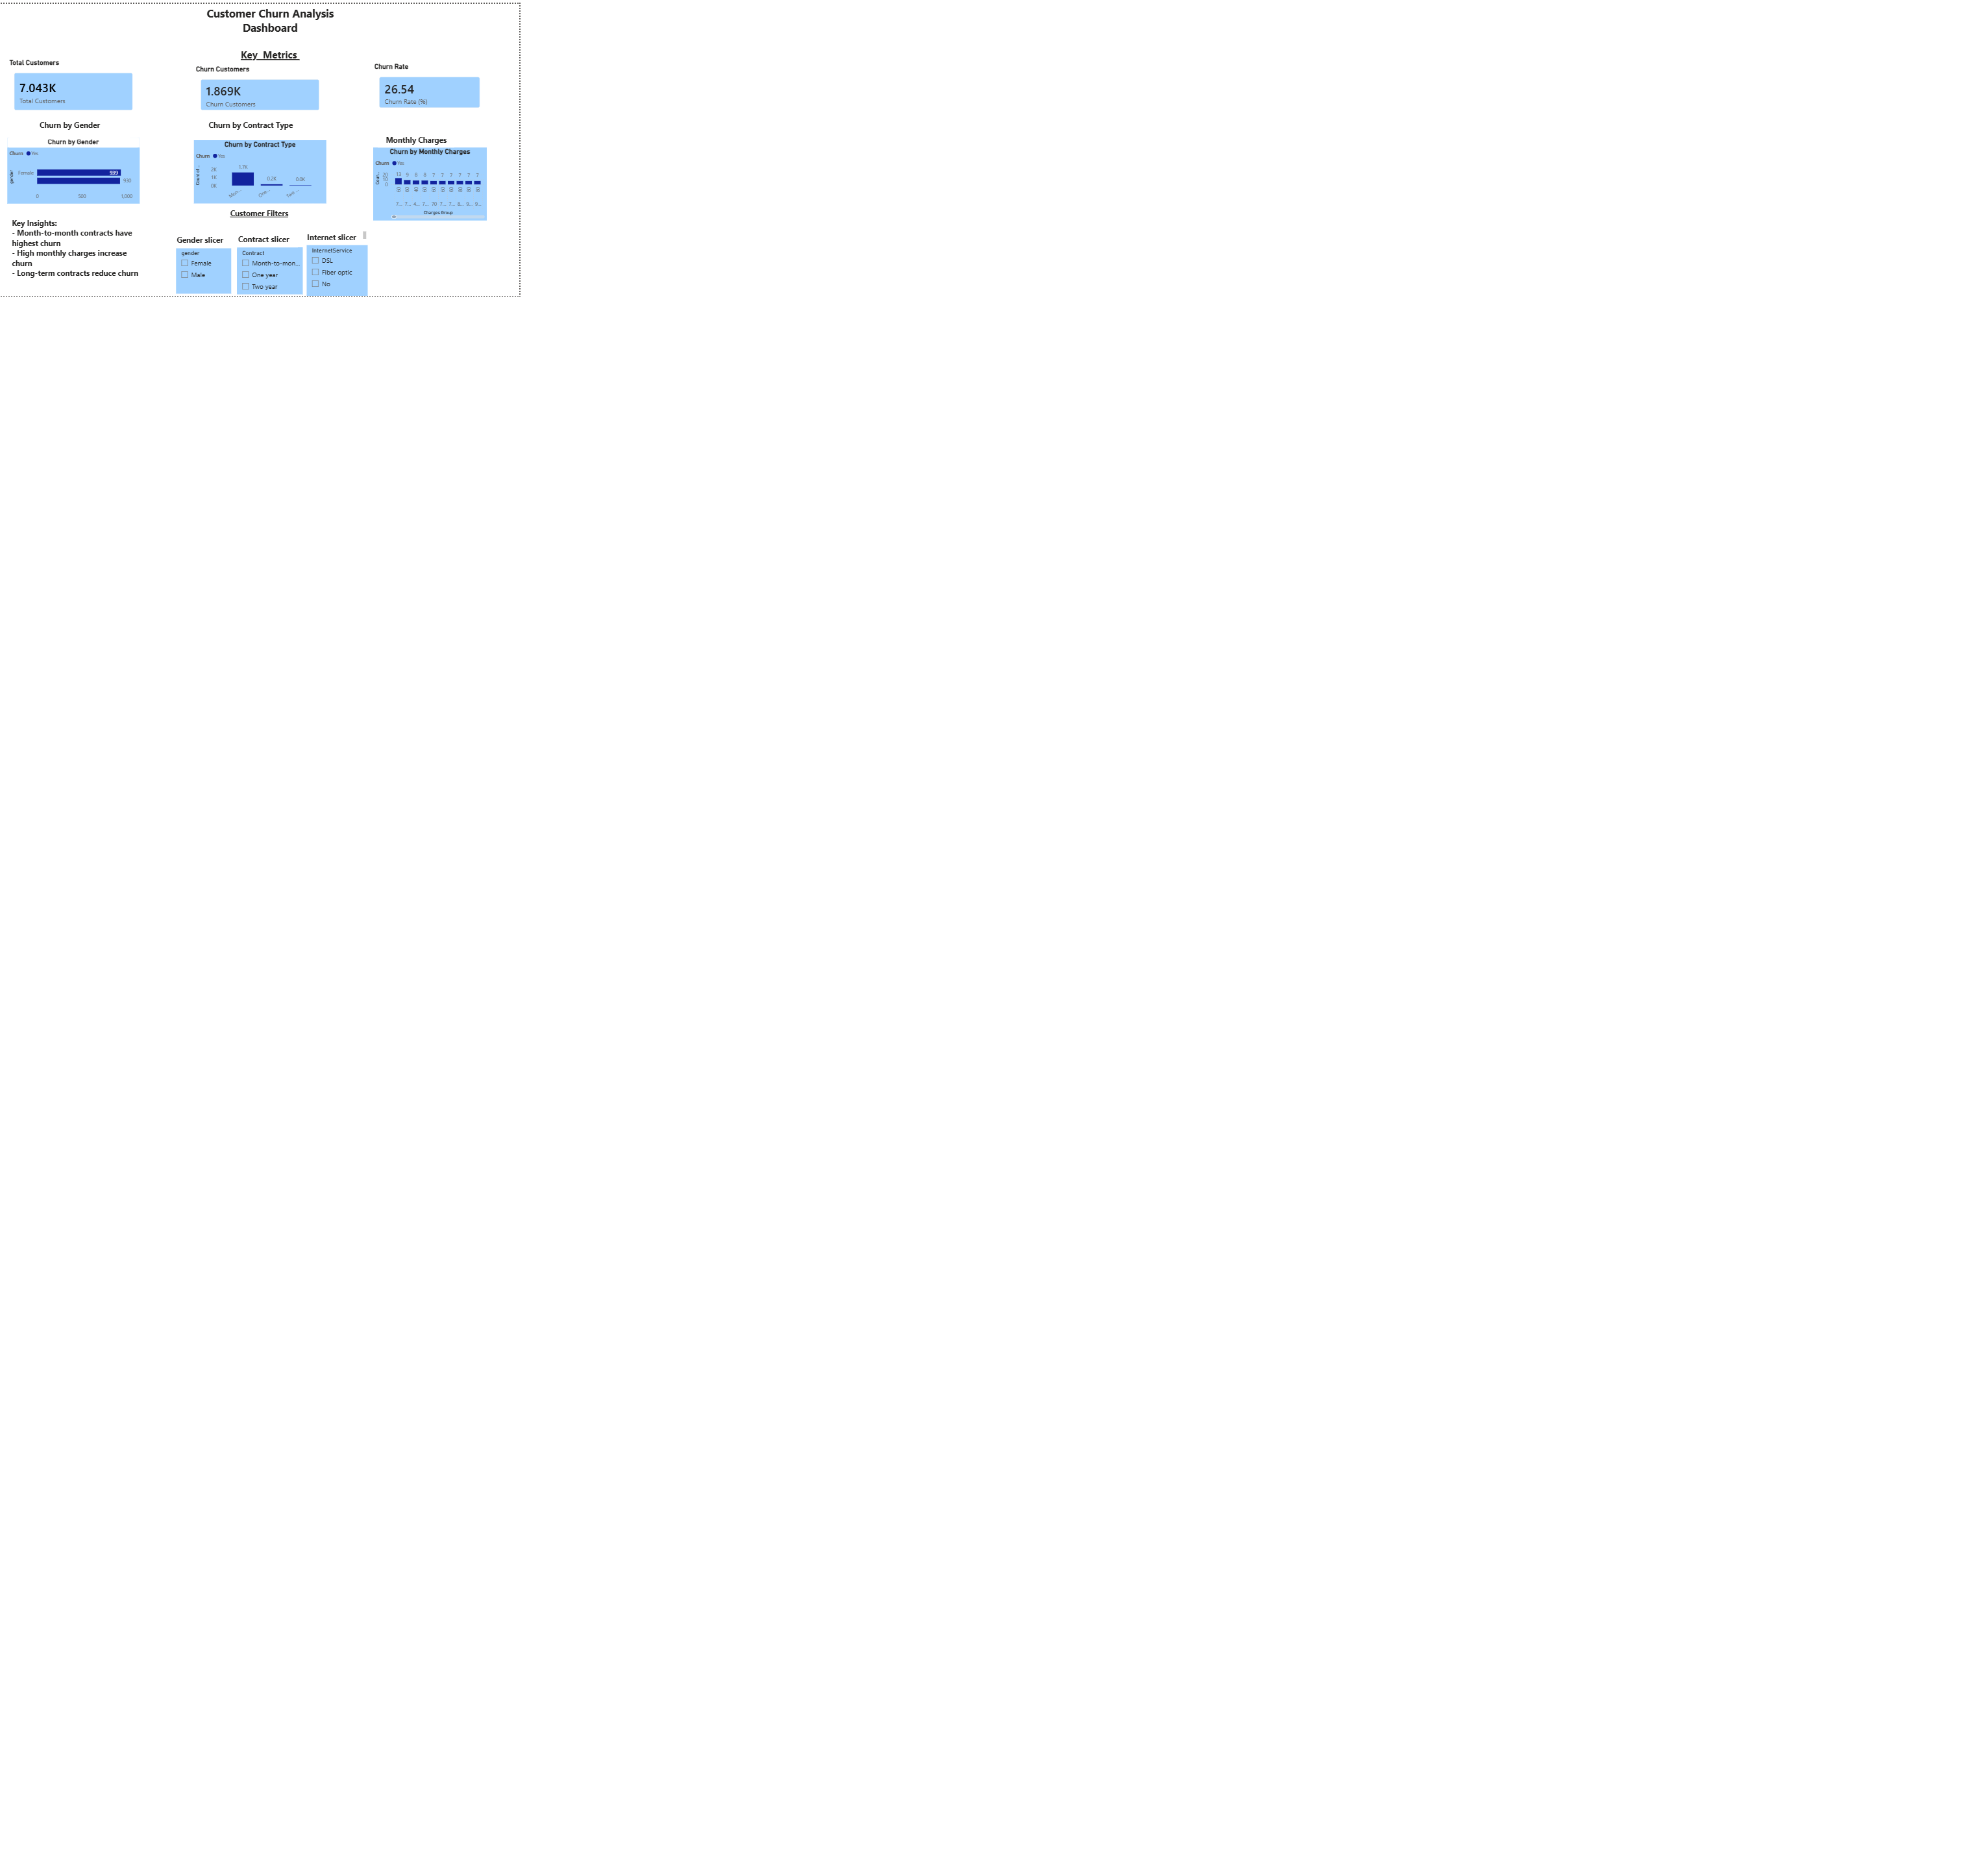

The dashboard page shown, as its layout file describes it:
{"tool":"powerbi","page":{"name":"Page 1","canvas":[1280,720],"ordinal":0},"visuals":[{"type":"cardVisual","title":"Total Customers","fields":{"Data":["CountNonNull(Telco-Customer-Churn.customerID)"]},"box":[18,134,326,146],"z":0},{"type":"cardVisual","title":"Churn Customers","fields":{"Data":["CountNonNull(Telco-Customer-Churn.customerID)"]},"box":[478,150,326,130],"z":1000},{"type":"clusteredBarChart","title":"Churn by Gender","fields":{"Category":["Telco-Customer-Churn.gender"],"Series":["Telco-Customer-Churn.Churn"],"Y":["CountNonNull(Telco-Customer-Churn.customerID)"]},"box":[18,330,326,162],"z":2000},{"type":"clusteredColumnChart","title":"Churn by Contract Type ","fields":{"Category":["Telco-Customer-Churn.Contract"],"Series":["Telco-Customer-Churn.Churn"],"Y":["CountNonNull(Telco-Customer-Churn.customerID)"]},"box":[478,336,326,156],"z":3000},{"type":"slicer","fields":{"Values":["Telco-Customer-Churn.gender"]},"box":[434,600,136,114],"z":4000},{"type":"cardVisual","title":"Churn Rate ","fields":{"Data":["Telco-Customer-Churn.Measure  Churn Rate"]},"box":[918,144,282,130],"z":5000},{"type":"textbox","box":[502,0,328,150],"z":6000},{"type":"textbox","box":[526,104,280,46],"z":6001},{"type":"textbox","box":[24,280,296,54],"z":6002},{"type":"textbox","box":[456,280,324,50],"z":6003},{"type":"textbox","box":[544,498,190,46],"z":6004},{"type":"slicer","fields":{"Values":["Telco-Customer-Churn.Contract"]},"box":[584,600,162,116],"z":6005},{"type":"slicer","fields":{"Values":["Telco-Customer-Churn.InternetService"]},"box":[756,594,150,126],"z":6006},{"type":"textbox","box":[402,564,182,38],"z":6007},{"type":"textbox","box":[566,562,168,38],"z":6008},{"type":"textbox","box":[734,556,174,38],"z":6009},{"type":"clusteredColumnChart","title":"Churn by Monthly Charges","fields":{"Category":["Telco-Customer-Churn.MonthlyCharges","Telco-Customer-Churn.Charges Group"],"Y":["CountNonNull(Telco-Customer-Churn.customerID)"],"Series":["Telco-Customer-Churn.Churn"]},"box":[920,354,280,180],"z":6010},{"type":"textbox","box":[932,318,188,36],"z":6011},{"type":"textbox","box":[24,522,324,184],"z":6012}]}

Visuals, with their boxes on the page's 1280x720 design canvas (x1, y1, x2, y2). These are canvas units, not pixel positions in the 1988x1855 screenshot, which may show the page scaled, cropped or inside an application window:
"Total Customers" cardVisual: x1=18 y1=134 x2=344 y2=280
"Churn Customers" cardVisual: x1=478 y1=150 x2=804 y2=280
"Churn by Gender" clusteredBarChart: x1=18 y1=330 x2=344 y2=492
"Churn by Contract Type " clusteredColumnChart: x1=478 y1=336 x2=804 y2=492
slicer - Telco-Customer-Churn.gender: x1=434 y1=600 x2=570 y2=714
"Churn Rate " cardVisual: x1=918 y1=144 x2=1200 y2=274
textbox: x1=502 y1=0 x2=830 y2=150
textbox: x1=526 y1=104 x2=806 y2=150
textbox: x1=24 y1=280 x2=320 y2=334
textbox: x1=456 y1=280 x2=780 y2=330
textbox: x1=544 y1=498 x2=734 y2=544
slicer - Telco-Customer-Churn.Contract: x1=584 y1=600 x2=746 y2=716
slicer - Telco-Customer-Churn.InternetService: x1=756 y1=594 x2=906 y2=720
textbox: x1=402 y1=564 x2=584 y2=602
textbox: x1=566 y1=562 x2=734 y2=600
textbox: x1=734 y1=556 x2=908 y2=594
"Churn by Monthly Charges" clusteredColumnChart: x1=920 y1=354 x2=1200 y2=534
textbox: x1=932 y1=318 x2=1120 y2=354
textbox: x1=24 y1=522 x2=348 y2=706
